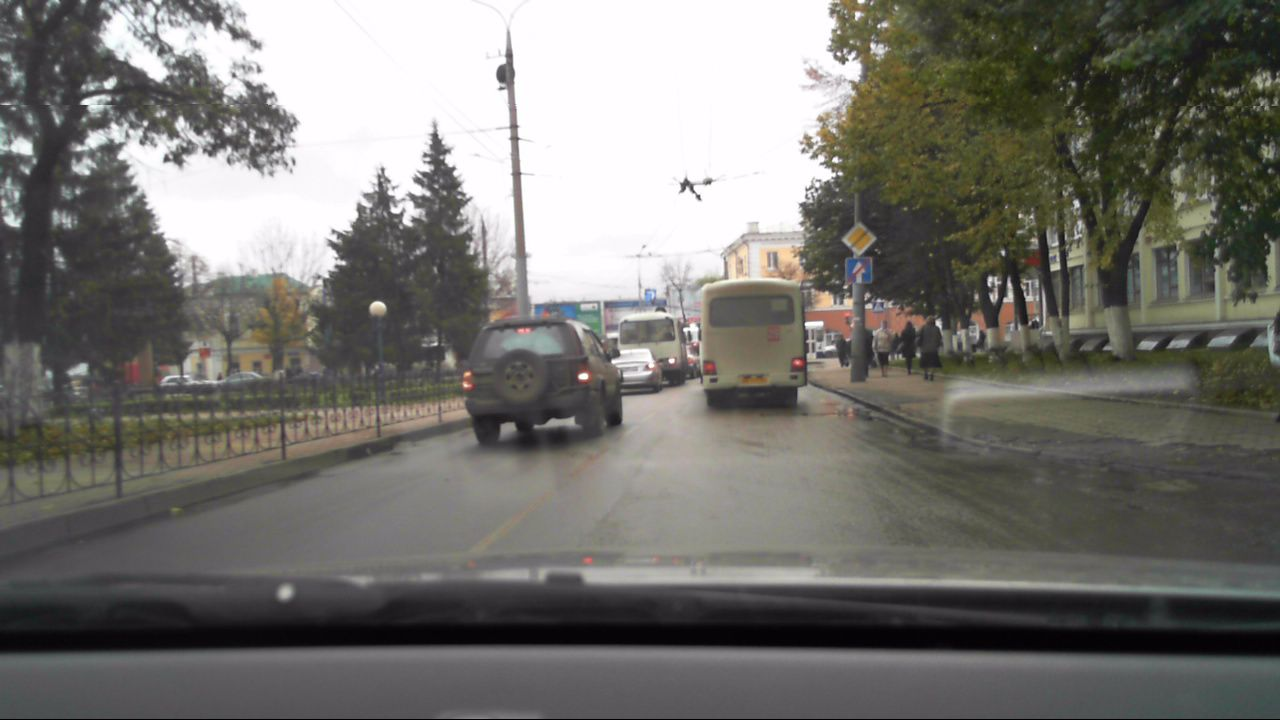main road: (837, 223, 875, 256)
